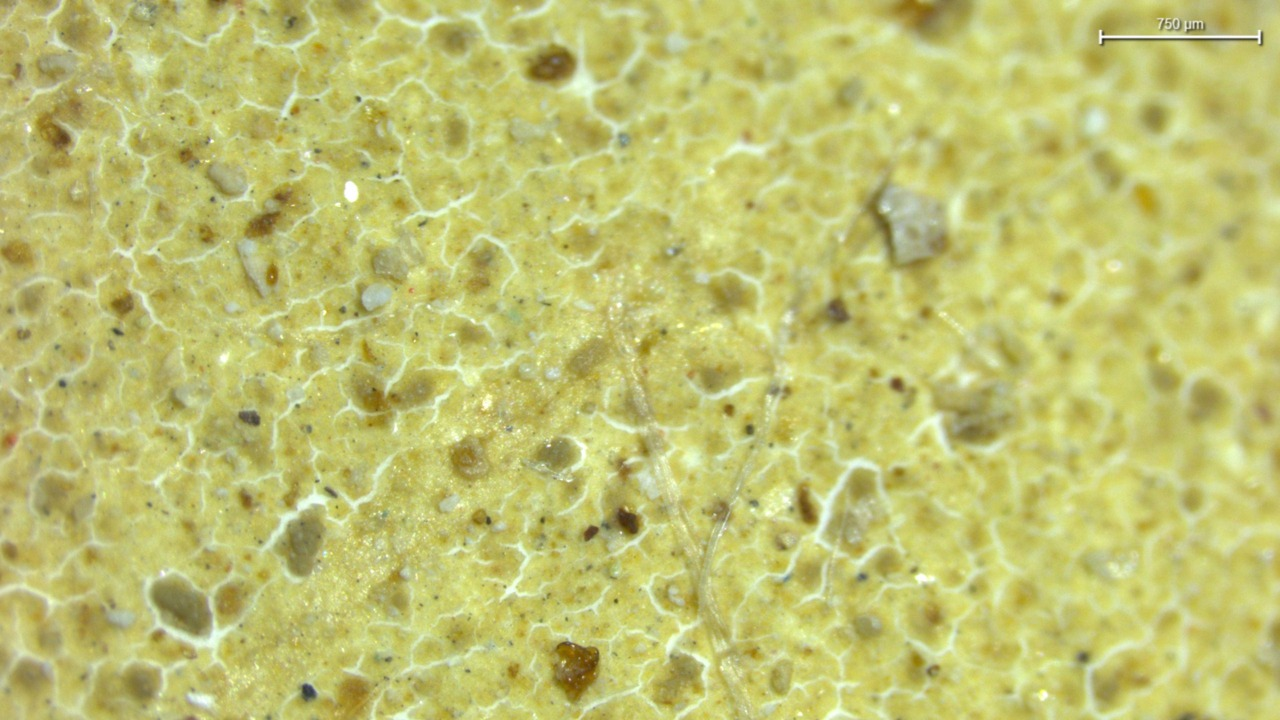microplastic_fragment: (877, 185, 945, 264), (207, 160, 248, 196), (361, 283, 392, 311)
